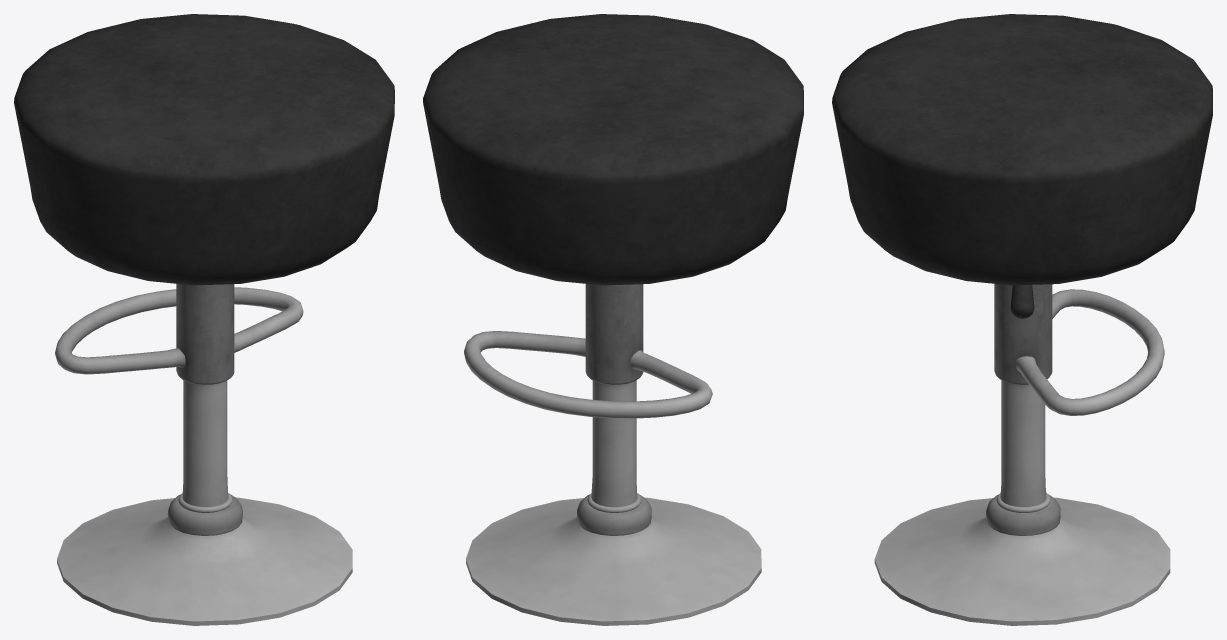
Rendered from bar_stool.glb.
The picture shows the model from 3 angles, left to right: view 1: azimuth 30°, elevation 25°; view 2: azimuth 150°, elevation 25°; view 3: azimuth 270°, elevation 25°; orthographic projection.
Parts seen in each view (by area): view 1: defaultMaterial; view 2: defaultMaterial; view 3: defaultMaterial.
Part boxes in pixels (<box>): defaultMaterial: <box>14,14,394,625</box>; defaultMaterial: <box>423,14,803,625</box>; defaultMaterial: <box>832,14,1212,625</box>.
Bounding box in the file's own units: 0.4683 × 0.6539 × 0.467.
Materials: 1 (1 with a texture image).
